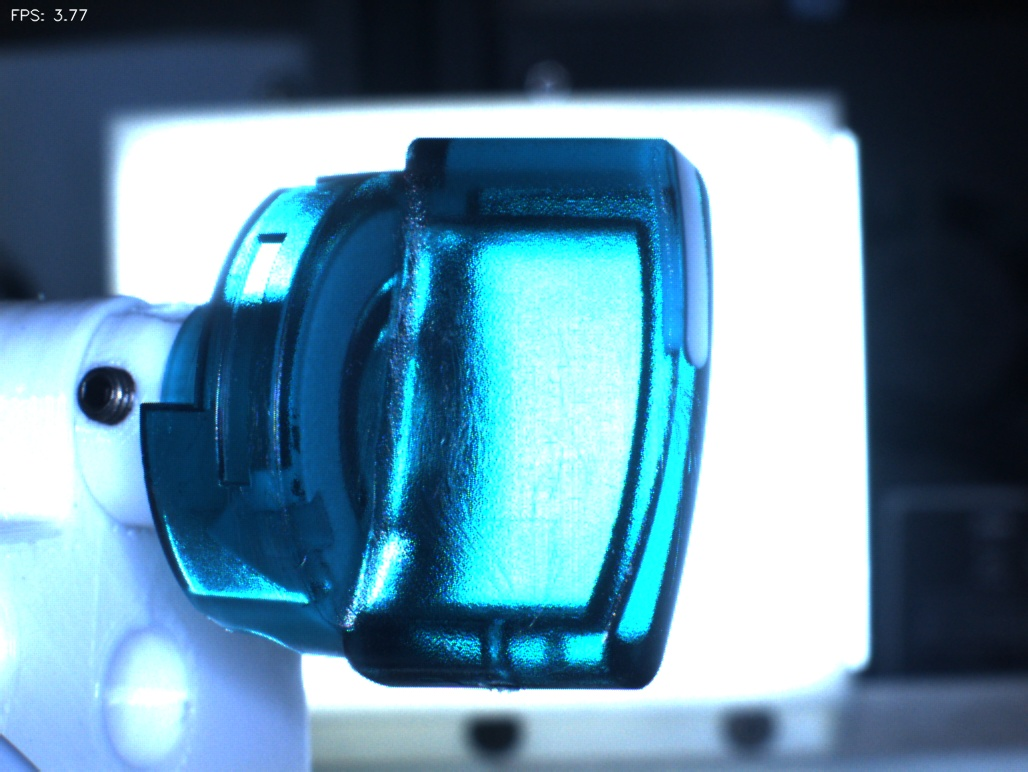Bulle: (460, 606, 543, 684)
